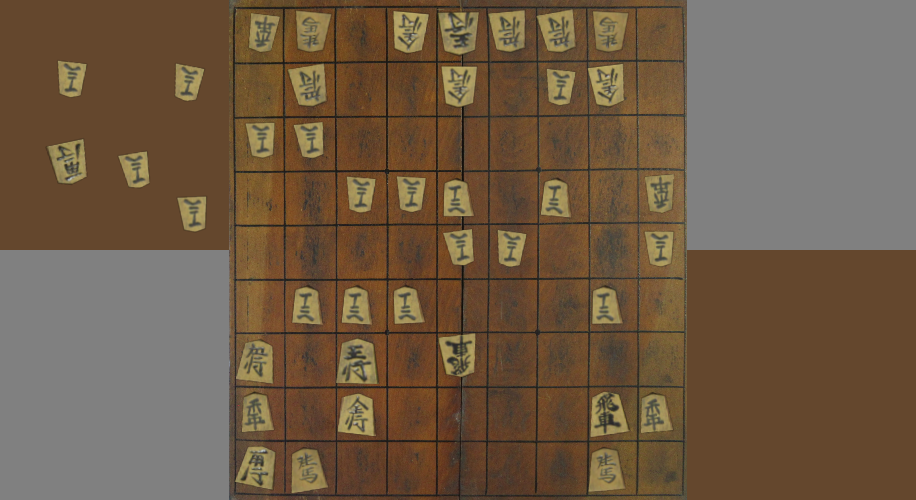A: (337, 340, 377, 383), (236, 447, 275, 489), (591, 392, 628, 436), (292, 449, 327, 492), (590, 449, 624, 491), (340, 394, 374, 436), (238, 341, 271, 383), (641, 394, 672, 432), (592, 287, 622, 324), (443, 180, 473, 216), (342, 287, 371, 324), (293, 287, 322, 324), (243, 394, 272, 431), (394, 287, 423, 323), (541, 180, 569, 217)
B: (439, 14, 477, 54), (289, 65, 326, 106), (538, 11, 575, 52), (440, 334, 475, 377), (589, 65, 623, 106), (490, 12, 524, 51), (395, 12, 428, 52), (594, 12, 627, 51), (298, 12, 330, 51), (444, 67, 475, 106), (250, 14, 279, 51), (444, 230, 473, 265), (547, 69, 575, 105), (646, 175, 672, 212), (295, 124, 323, 158), (645, 232, 673, 266), (348, 177, 375, 212), (499, 231, 526, 266), (247, 123, 274, 157), (398, 177, 425, 211)
D: (48, 140, 86, 184), (119, 152, 150, 188), (175, 64, 204, 101), (58, 61, 86, 97), (178, 198, 206, 231)
